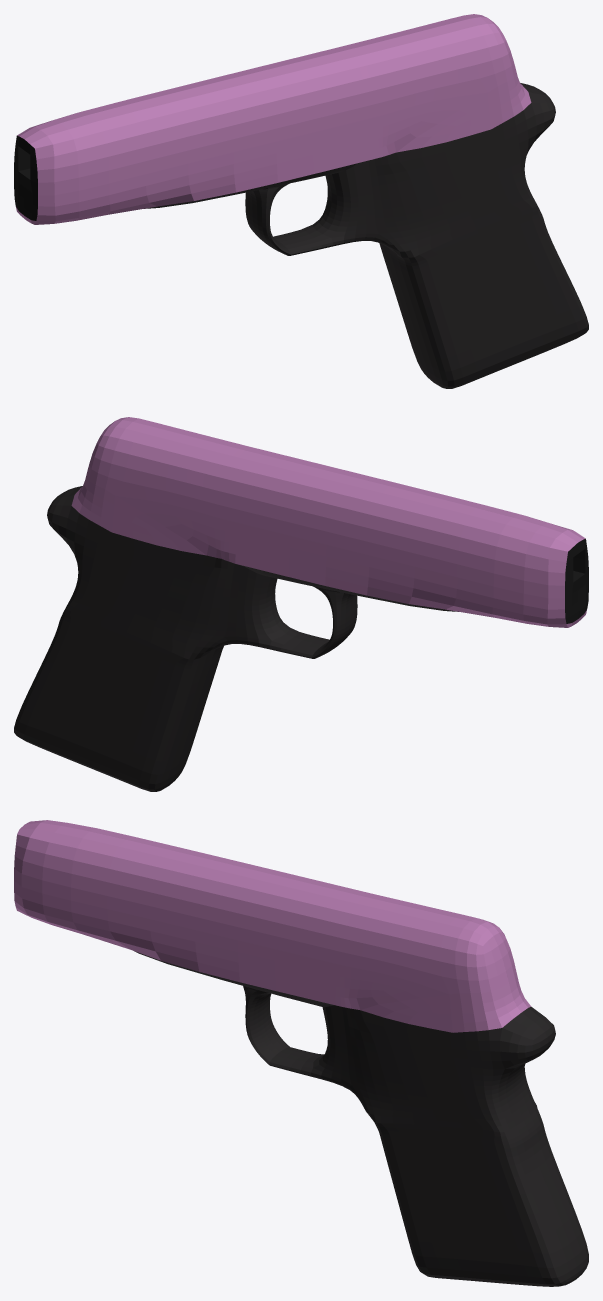
File: pistoletto.fbx
3 renders of one model, top to bottom at view 1: azimuth 30°, elevation 25°; view 2: azimuth 150°, elevation 25°; view 3: azimuth 330°, elevation 25°, orthographic.
Visible parts, largest first — view 1: Куб.002; view 2: Куб.002; view 3: Куб.002.
Boxes of the visible parts, bbox=[...] form: Куб.002: bbox=[14, 14, 588, 388]; Куб.002: bbox=[14, 417, 588, 791]; Куб.002: bbox=[14, 820, 588, 1286].
Size of the model in its own units: 428 by 265 by 51.39.
Materials: 1 (1 with a texture image).
